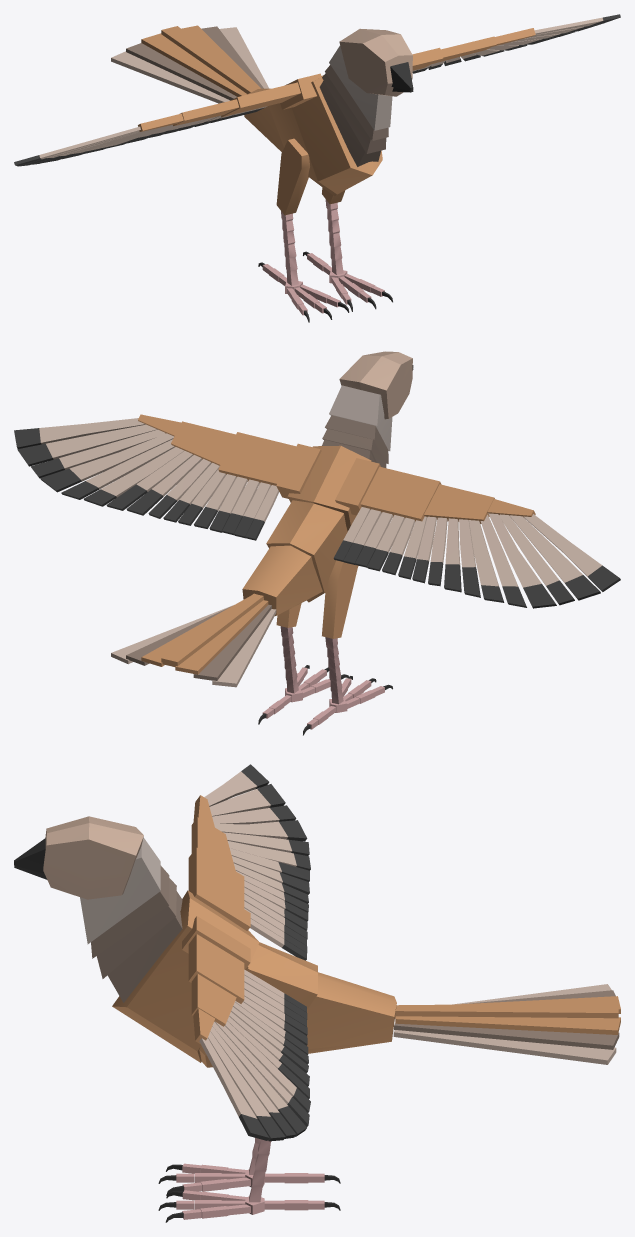
File: boxy bird.fbx
3 views of the same model, one above another, from view 1: azimuth 30°, elevation 25°; view 2: azimuth 150°, elevation 25°; view 3: azimuth 270°, elevation 25° (orthographic). The views are drawn at different scales.
Parts seen in each view (by area): view 1: bodypart82, wings, bodypart87, bodypart40, bodypart84, bodypart1, bodypart90, bodypart92, bodypart91, bodypart83, bodypart79, bodypart3 (+13 smaller); view 2: wings, bodypart3, bodypart2, bodypart87, bodypart79, bodypart59, bodypart82, bodypart84, bodypart40, bodypart80, bodypart60, bodypart1 (+13 smaller); view 3: wings, bodypart82, bodypart87, bodypart2, bodypart84, bodypart1, bodypart93, bodypart3, bodypart95, bodypart94, bodypart59, bodypart83 (+11 smaller).
Boxes of the visible parts, x1,y1,x2,y2 form: bodypart82: (292, 75, 382, 194); wings: (14, 14, 620, 166); bodypart87: (339, 28, 412, 96); bodypart40: (276, 138, 309, 215); bodypart84: (329, 45, 392, 130); bodypart1: (161, 26, 258, 93); bodypart90: (141, 33, 246, 96); bodypart92: (111, 51, 229, 103); bodypart91: (126, 43, 236, 100); bodypart83: (319, 81, 380, 166); bodypart79: (221, 82, 300, 117); bodypart3: (268, 103, 336, 196); wings: (14, 418, 620, 608); bodypart3: (266, 500, 347, 602); bodypart2: (242, 545, 322, 615); bodypart87: (339, 351, 412, 419); bodypart79: (360, 467, 441, 521); bodypart59: (218, 432, 296, 485); bodypart82: (287, 445, 371, 565); bodypart84: (329, 385, 392, 451); bodypart40: (322, 560, 358, 638); bodypart80: (424, 484, 494, 523); bodypart60: (171, 421, 235, 465); bodypart1: (161, 593, 263, 666); wings: (199, 764, 310, 1141); bodypart82: (112, 890, 259, 1062); bodypart87: (43, 816, 143, 899); bodypart2: (307, 972, 396, 1053); bodypart84: (80, 837, 160, 944); bodypart1: (395, 1003, 618, 1018); bodypart93: (395, 1016, 620, 1034); bodypart3: (199, 942, 317, 1067); bodypart95: (393, 1030, 616, 1064); bodypart94: (394, 1023, 619, 1049); bodypart59: (188, 934, 244, 1003); bodypart83: (107, 891, 182, 1002).
Size of the model in its own units: 18.44 by 8.73 by 12.83.
